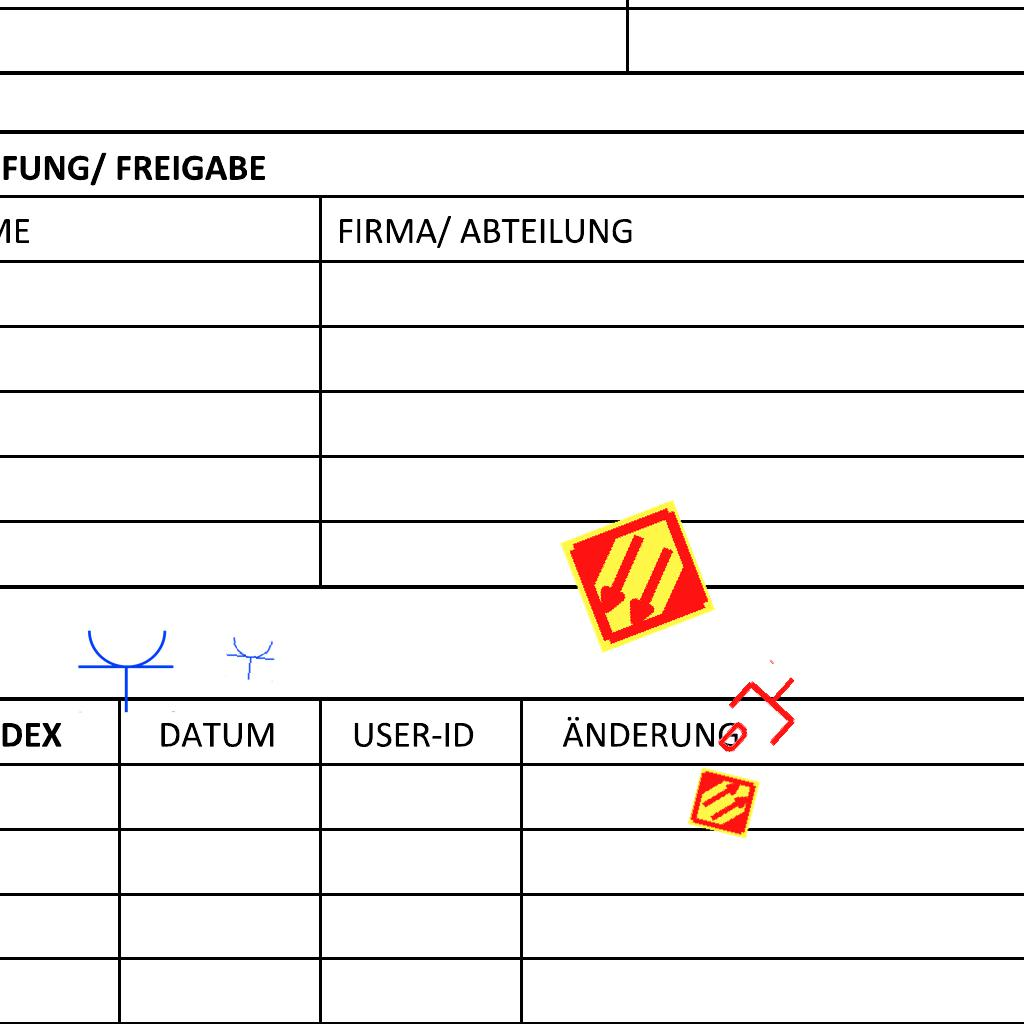ASR_Ansaugrauchmelder: (556, 495, 719, 658), (686, 765, 762, 841)
Datenanschluss_einfach: (701, 654, 820, 776)
Schukosteckdose_einfach: (77, 626, 177, 713), (223, 634, 279, 683)
